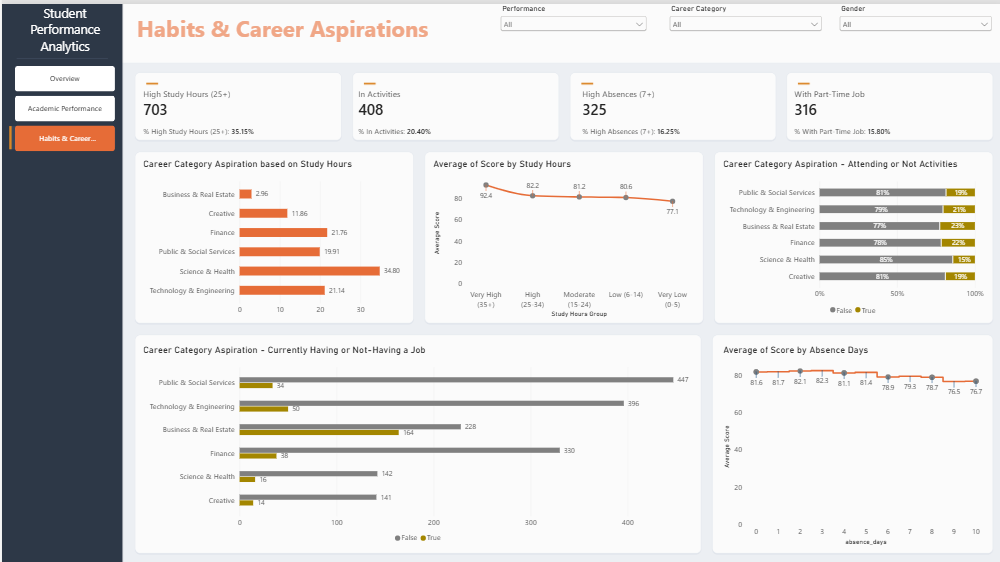

What the dashboard file says about the page in this screenshot:
{"tool":"powerbi","page":{"name":"Habits & Career Aspirations","canvas":[1920,1080],"ordinal":2},"visuals":[{"type":"lineChart","title":"Average of Score by Absence Days","fields":{"Category":["StudentPerformance.absence_days"],"Y":["Avg(StudentPerformance.Overall Avg Score)"]},"box":[1363,636.5,532,414.7],"z":6000},{"type":"lineChart","title":"Average of Score by Study Hours","fields":{"Category":["StudentPerformance.Study Hours Group"],"Y":["Avg(StudentPerformance.Overall Avg Score)"]},"box":[809.9,280.9,531.1,333.6],"z":7000},{"type":"clusteredBarChart","title":"Career Category Aspiration based on Study Hours","fields":{"Category":["StudentPerformance.Career Category"],"Y":["Avg(StudentPerformance.weekly_self_study_hours)"]},"box":[254.6,280.9,531,334],"z":8000},{"type":"clusteredBarChart","title":"Career Category Aspiration - Currently Having or Not-Having a Job","fields":{"Category":["StudentPerformance.Career Category"],"Series":["StudentPerformance.part_time_job"],"Y":["CountNonNull(StudentPerformance.id)"]},"box":[254.6,636.5,1086.4,414.8],"z":10000},{"type":"hundredPercentStackedBarChart","title":"Career Category Aspiration - Attending or Not Activities","fields":{"Category":["StudentPerformance.Career Category"],"Series":["StudentPerformance.extracurricular_activities"],"Y":["CountNonNull(StudentPerformance.id)"]},"box":[1363,280.9,531,334],"z":10001},{"type":"cardVisual","fields":{"Data":["_Formulas.High Absences (7+)"]},"box":[1093.3,128.8,395.2,131.7],"z":10002},{"type":"cardVisual","fields":{"Data":["_Formulas.In Activities"]},"box":[666.3,128.8,395.2,131.7],"z":10003},{"type":"slicer","fields":{"Values":["StudentPerformance.Career Category"]},"box":[1270.8,0,300.5,98.8],"z":10004},{"type":"slicer","fields":{"Values":["StudentPerformance.gender"]},"box":[1596.6,0,300.5,98.8],"z":10005},{"type":"slicer","fields":{"Values":["StudentPerformance.Overall Avg Score Group"]},"box":[947.9,0,289,84.7],"z":10006},{"type":"cardVisual","fields":{"Data":["_Formulas.High Study Hours (25+)"]},"box":[254,128.8,395.2,131.7],"z":10007},{"type":"cardVisual","fields":{"Data":["_Formulas.With Part-Time Job"]},"box":[1500,128.8,395.2,131.7],"z":10008},{"type":"pageNavigator","box":[23.9,117.8,191.4,163.8],"z":10009},{"type":"textbox","box":[257.7,16.6,638.7,84.7],"z":10010},{"type":"textbox","box":[23.9,0,191.4,101.2],"z":10011}]}

Visuals, with their boxes on the page's 1920x1080 design canvas (x1, y1, x2, y2). These are canvas units, not pixel positions in the 1000x562 screenshot, which may show the page scaled, cropped or inside an application window:
"Average of Score by Absence Days" lineChart: {"left": 1363, "top": 636, "right": 1895, "bottom": 1051}
"Average of Score by Study Hours" lineChart: {"left": 810, "top": 281, "right": 1341, "bottom": 614}
"Career Category Aspiration based on Study Hours" clusteredBarChart: {"left": 255, "top": 281, "right": 786, "bottom": 615}
"Career Category Aspiration - Currently Having or Not-Having a Job" clusteredBarChart: {"left": 255, "top": 636, "right": 1341, "bottom": 1051}
"Career Category Aspiration - Attending or Not Activities" hundredPercentStackedBarChart: {"left": 1363, "top": 281, "right": 1894, "bottom": 615}
cardVisual - _Formulas.High Absences (7+): {"left": 1093, "top": 129, "right": 1488, "bottom": 260}
cardVisual - _Formulas.In Activities: {"left": 666, "top": 129, "right": 1062, "bottom": 260}
slicer - StudentPerformance.Career Category: {"left": 1271, "top": 0, "right": 1571, "bottom": 99}
slicer - StudentPerformance.gender: {"left": 1597, "top": 0, "right": 1897, "bottom": 99}
slicer - StudentPerformance.Overall Avg Score Group: {"left": 948, "top": 0, "right": 1237, "bottom": 85}
cardVisual - _Formulas.High Study Hours (25+): {"left": 254, "top": 129, "right": 649, "bottom": 260}
cardVisual - _Formulas.With Part-Time Job: {"left": 1500, "top": 129, "right": 1895, "bottom": 260}
pageNavigator: {"left": 24, "top": 118, "right": 215, "bottom": 282}
textbox: {"left": 258, "top": 17, "right": 896, "bottom": 101}
textbox: {"left": 24, "top": 0, "right": 215, "bottom": 101}
